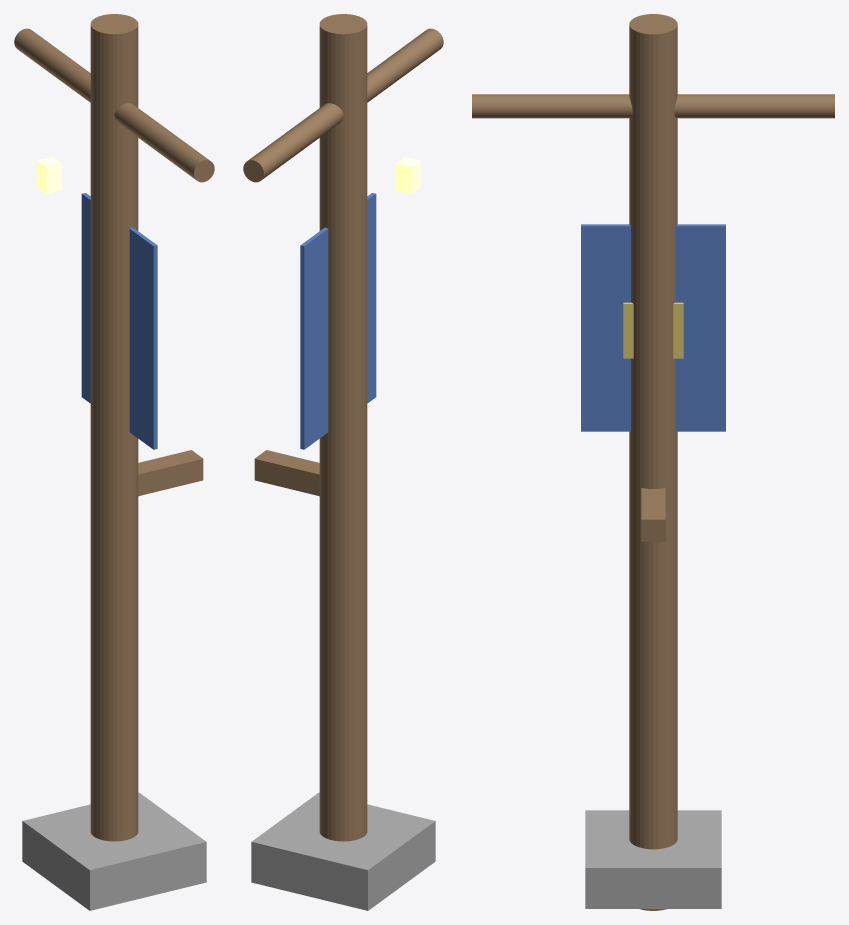
File: outpost_banner.glb
The picture shows the model from 3 angles, left to right: view 1: azimuth 30°, elevation 25°; view 2: azimuth 150°, elevation 25°; view 3: azimuth 270°, elevation 25°; orthographic projection.
Visible parts, largest first — view 1: Cylinder, Cube, Cube.001, Cylinder.001, Cube.003, Cube.004; view 2: Cylinder, Cube, Cube.001, Cylinder.001, Cube.003, Cube.004; view 3: Cylinder, Cube.001, Cube, Cylinder.001, Cube.003, Cube.002.
Part boxes in pixels (left/top/right/bottom): Cylinder: left=90, top=14, right=138, bottom=841; Cube: left=22, top=792, right=206, bottom=910; Cube.001: left=81, top=193, right=157, bottom=449; Cylinder.001: left=14, top=28, right=214, bottom=182; Cube.003: left=138, top=450, right=203, bottom=496; Cube.004: left=37, top=157, right=61, bottom=194; Cylinder: left=319, top=14, right=367, bottom=841; Cube: left=251, top=792, right=435, bottom=910; Cube.001: left=300, top=193, right=376, bottom=449; Cylinder.001: left=243, top=28, right=443, bottom=182; Cube.003: left=254, top=450, right=319, bottom=496; Cube.004: left=396, top=157, right=420, bottom=194; Cylinder: left=629, top=14, right=677, bottom=910; Cube.001: left=581, top=224, right=725, bottom=431; Cube: left=585, top=810, right=721, bottom=908; Cylinder.001: left=472, top=94, right=834, bottom=118; Cube.003: left=641, top=487, right=665, bottom=541; Cube.002: left=623, top=302, right=683, bottom=358.
Bounding box in the file's own units: 0.6 × 3.2 × 1.2.
